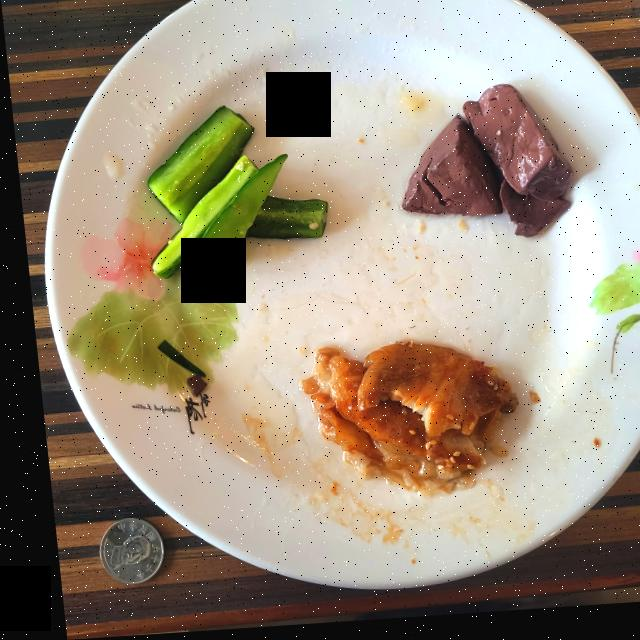Kabayaki sea bream fillet: (294, 347, 508, 499)
coin: (86, 519, 151, 585)
cucumber: (142, 109, 322, 280)
pig blood curd: (397, 92, 567, 244)
